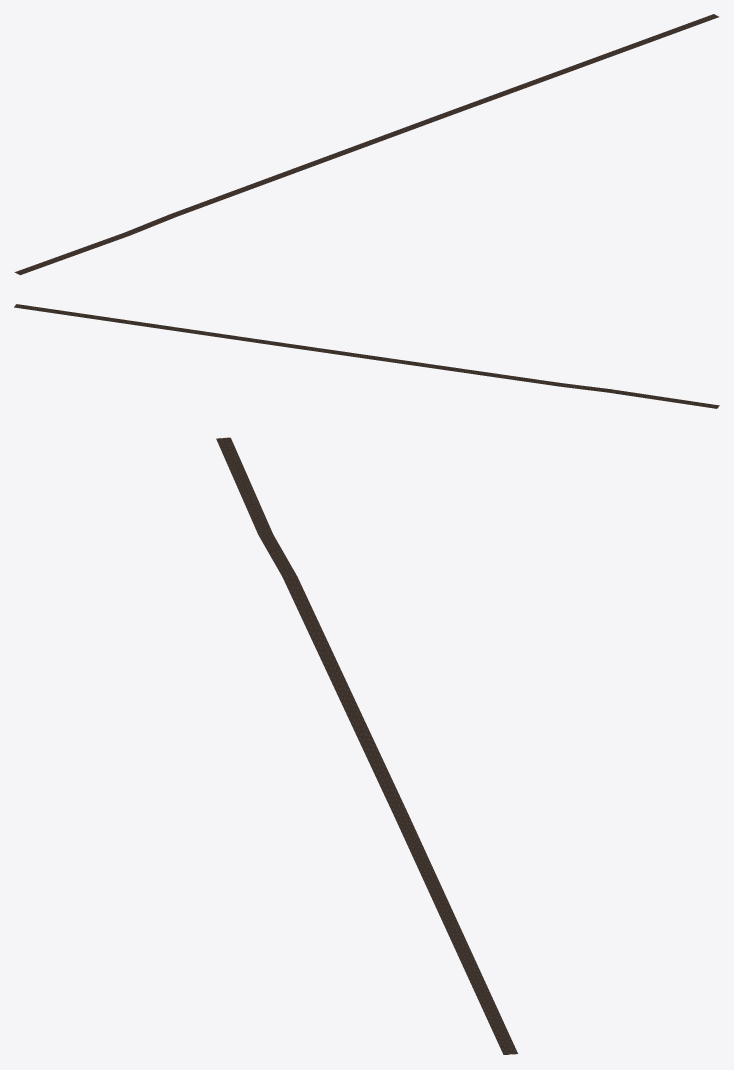
The model's file is kobe_0017.glb.
3 renders of one model, top to bottom at view 1: azimuth 30°, elevation 25°; view 2: azimuth 150°, elevation 25°; view 3: azimuth 270°, elevation 25°, orthographic. The views are drawn at different scales.
Parts seen in each view (by area): view 1: ballast_top, oxidised_rail_profiles; view 2: ballast_top, oxidised_rail_profiles, ballast_left; view 3: ballast_top, oxidised_rail_profiles.
Boxes of the visible parts, <box> form: ballast_top: <box>14,14,718,275</box>; oxidised_rail_profiles: <box>15,14,718,274</box>; ballast_top: <box>14,304,719,408</box>; oxidised_rail_profiles: <box>15,304,718,407</box>; ballast_left: <box>14,307,717,408</box>; ballast_top: <box>216,437,517,1054</box>; oxidised_rail_profiles: <box>218,438,515,1054</box>.
Bounding box in the file's own units: 742 × 0.819 × 154.
4 materials, 3 textured.
